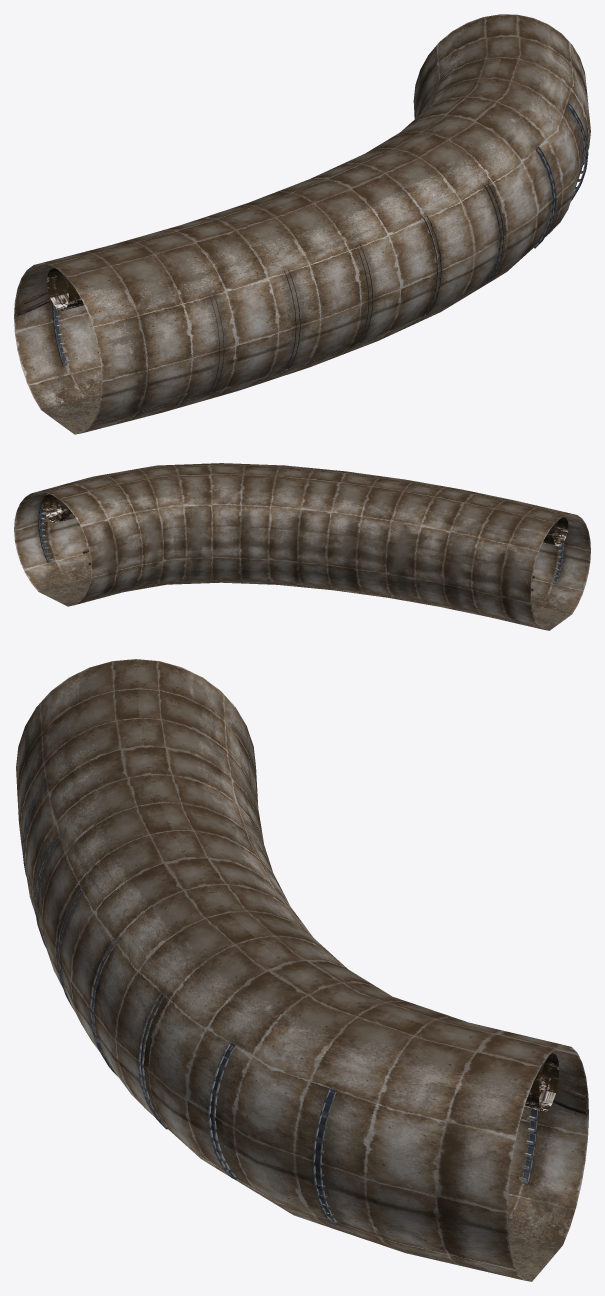
3 views of the same model, one above another, from view 1: azimuth 30°, elevation 25°; view 2: azimuth 150°, elevation 25°; view 3: azimuth 270°, elevation 25° (orthographic). The views are drawn at different scales.
Visible parts, largest first — view 1: Tunnel.004; view 2: Tunnel.004; view 3: Tunnel.004.
Boxes of the visible parts, <box> form: Tunnel.004: <box>14,14,590,434</box>; Tunnel.004: <box>14,463,590,630</box>; Tunnel.004: <box>16,659,588,1281</box>.
Size of the model in its own units: 3494 by 774 by 1909.
3 materials, 3 textured.
